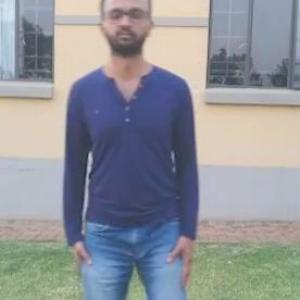follow: (39, 6, 152, 299)
